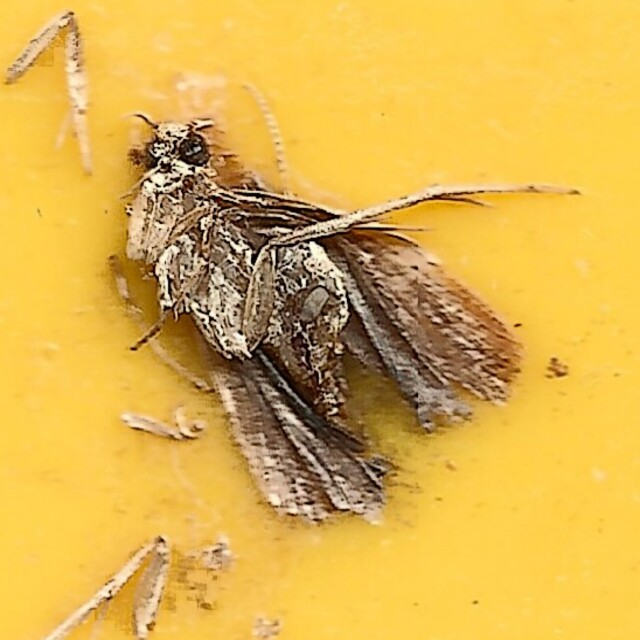Lepidoptera: (117, 115, 523, 525)
